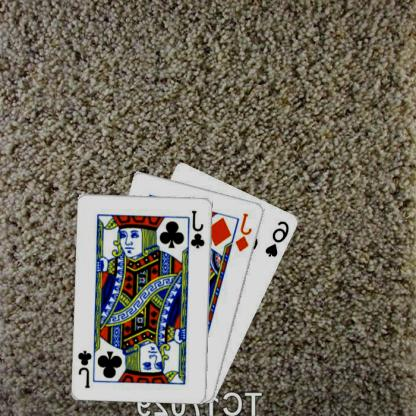6S: (264, 218, 292, 258)
JC: (190, 207, 208, 249), (77, 348, 95, 388)
JD: (235, 210, 255, 254)
